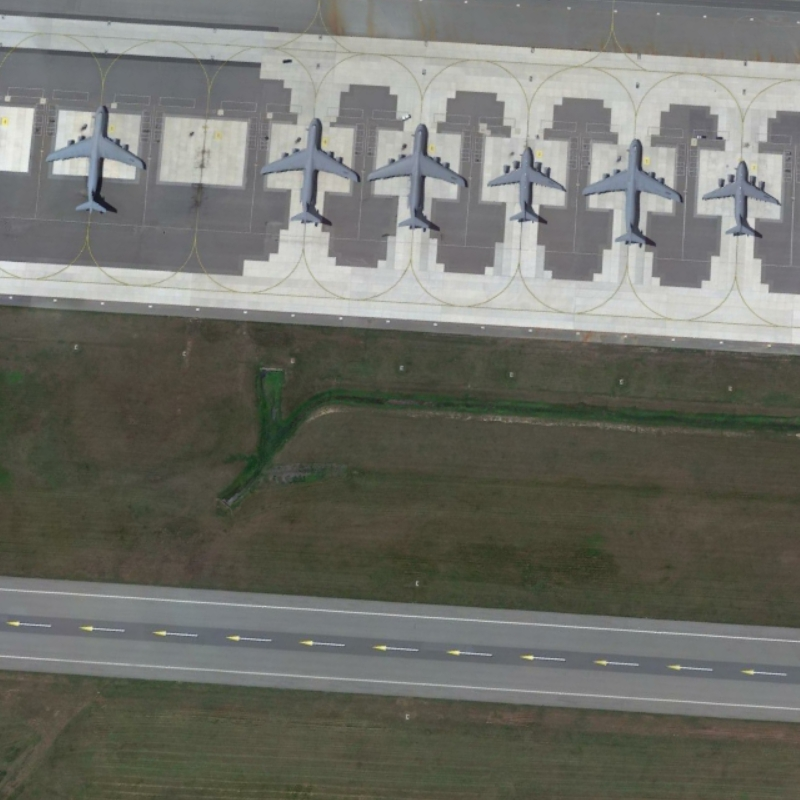A3: (487, 142, 569, 228), (699, 157, 785, 239)
A4: (579, 130, 687, 253), (256, 112, 363, 229), (364, 120, 472, 234), (45, 99, 149, 215)
